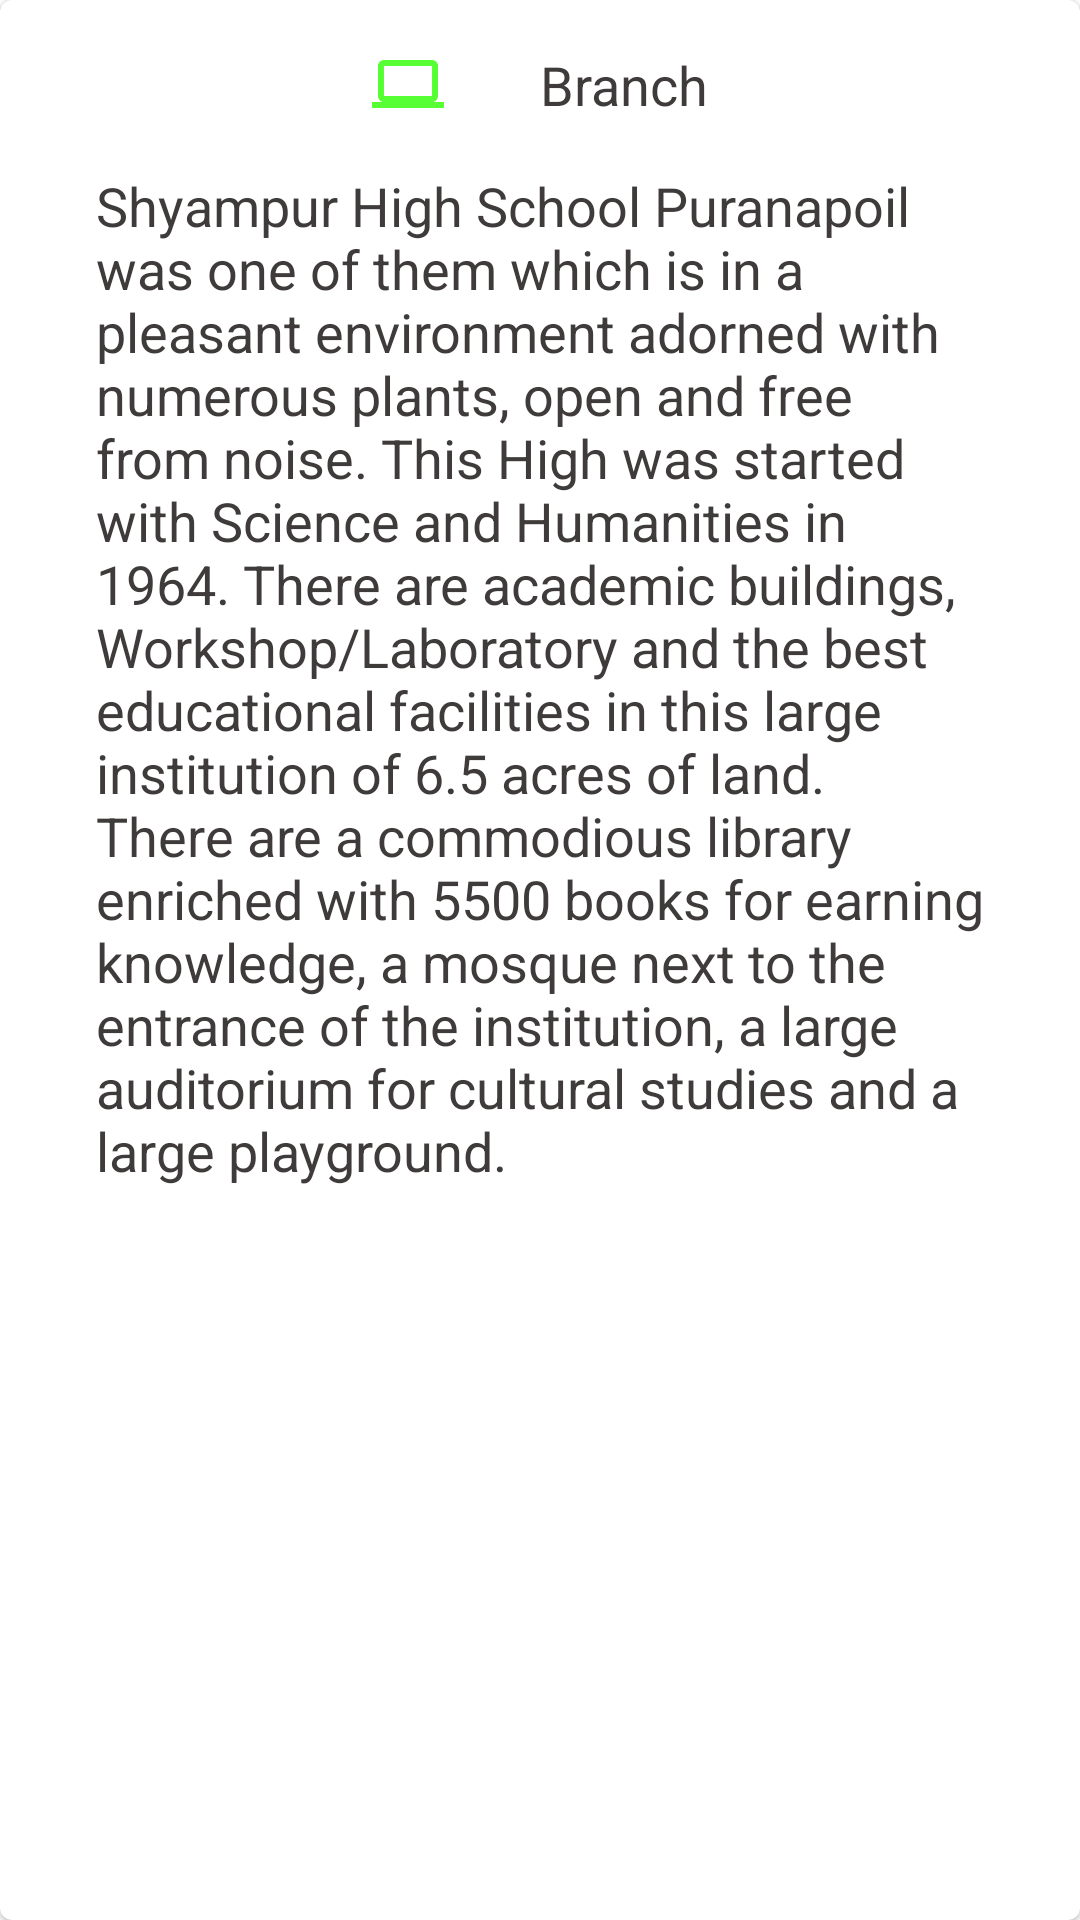

Icons on this 1080×1920 Android screen, each with its box as rect(x1, y1, x2, y2):
computer: rect(372, 60, 444, 108)
